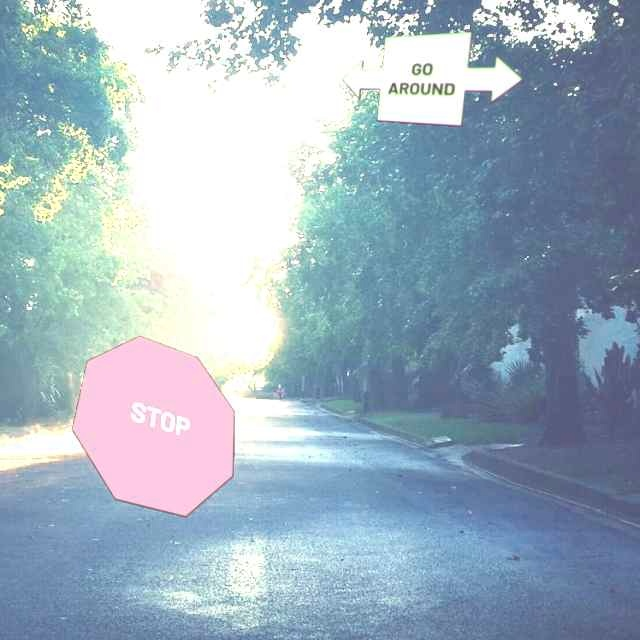GO_AROUND: (341, 31, 524, 127)
STOP: (71, 335, 235, 518)
